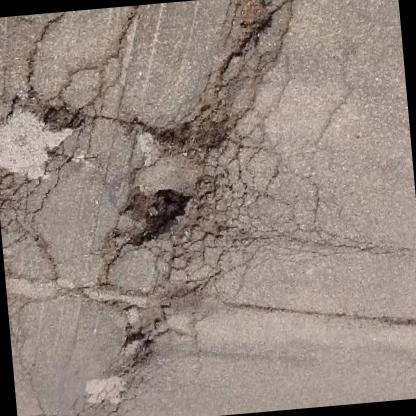pothole: (130, 181, 198, 250), (158, 116, 231, 161), (230, 0, 279, 48), (117, 320, 158, 371), (38, 95, 84, 135)
